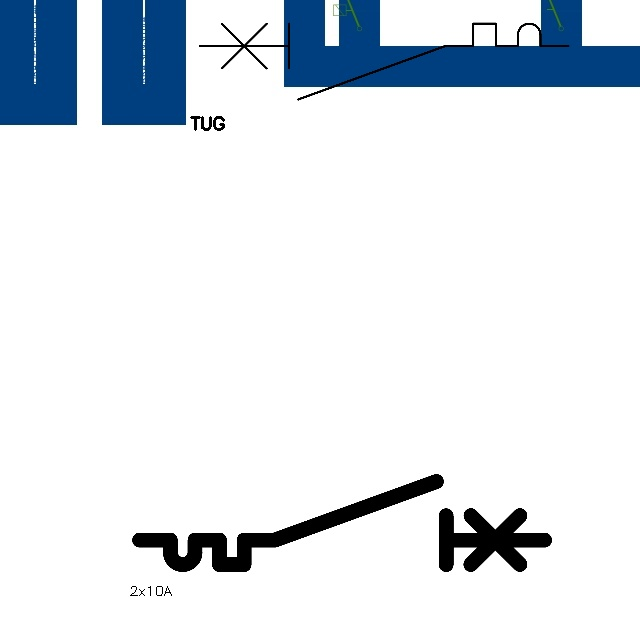interruptor_termomagnetico: (129, 471, 555, 575), (190, 14, 578, 109)
